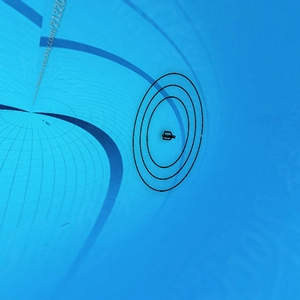circle: (129, 72, 204, 195)
submarine: (162, 129, 181, 145)
